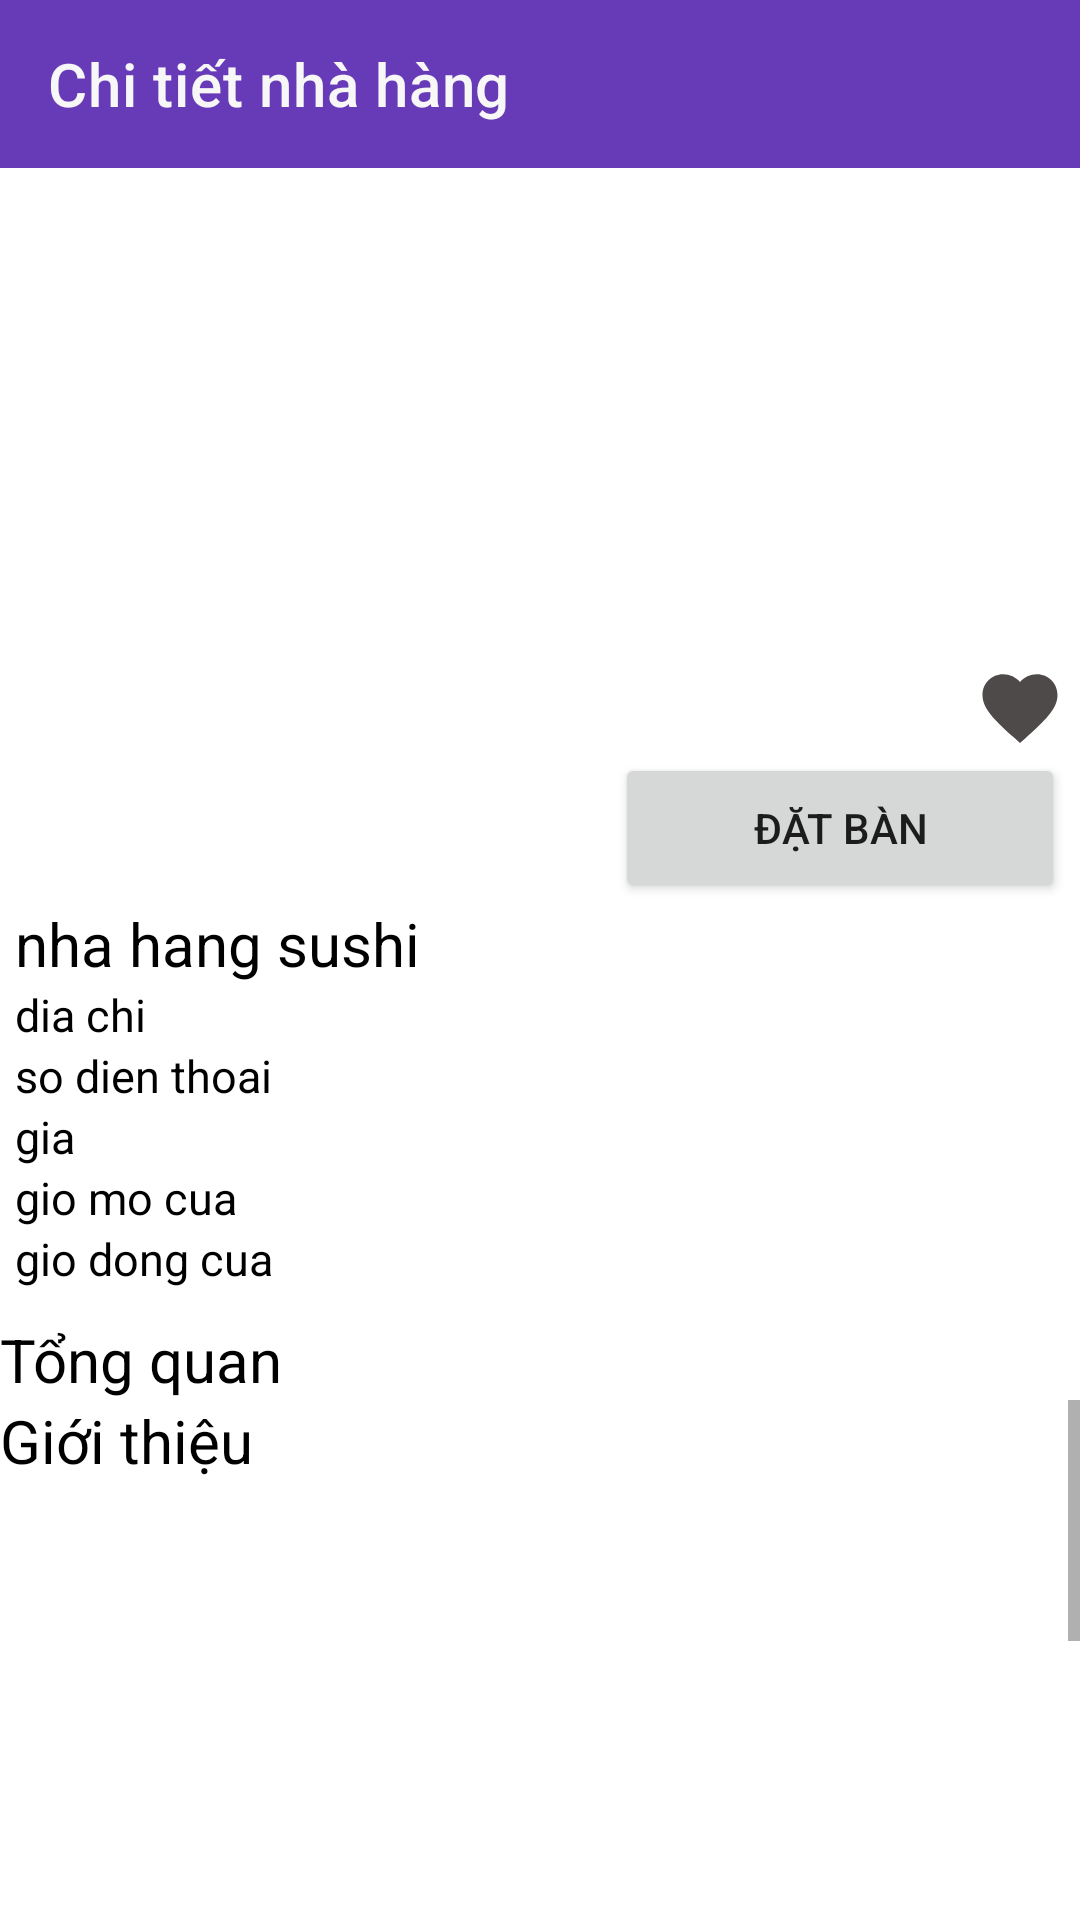

Named icons in this screenshot (1080 x 1920) and their bounding boxes, (x1, y1, x2, y2):
love: (982, 674, 1058, 743)
